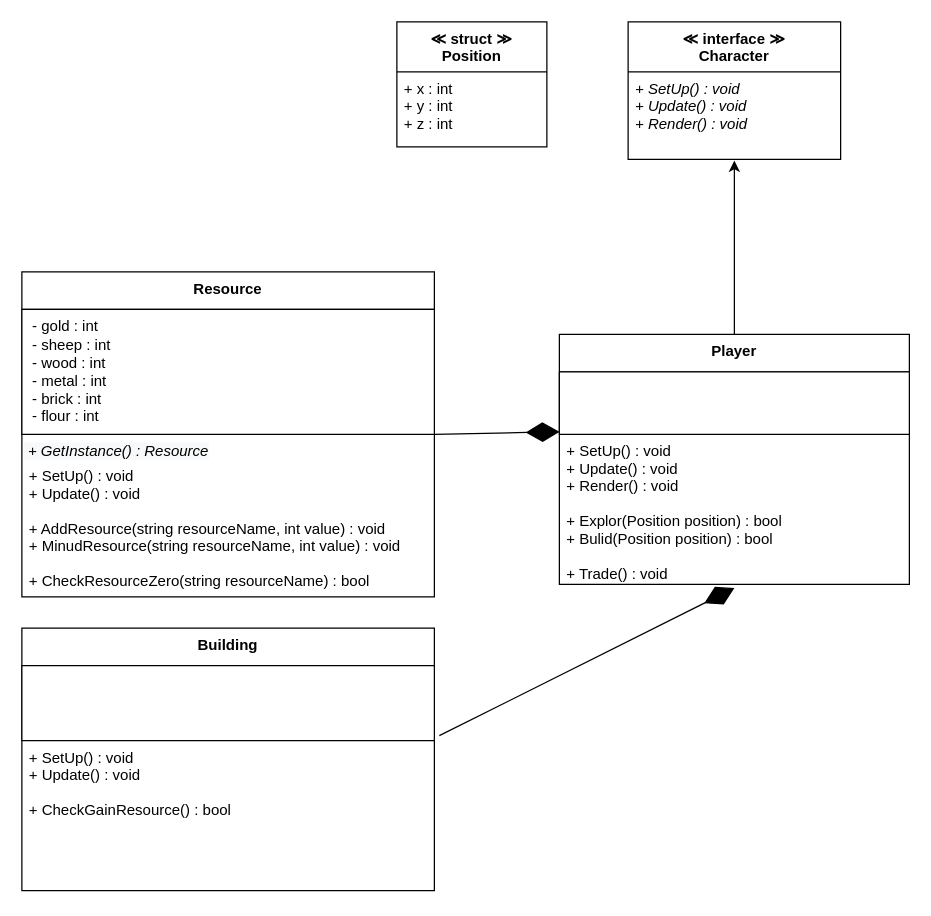
This 931x916 diagram has some shape labels left out. Here are the shapes that lost their labels. From the top down, the centre of each, then its label:
At (733,402): "- m_resource : Resource - m_vecBuilding : vector<Building>".
At (227,702): "- typeName : string - buildPos : Position - resourceGainDate : int".
